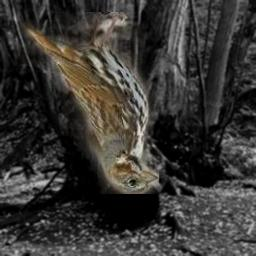Sparrow: (8, 12, 159, 194)
